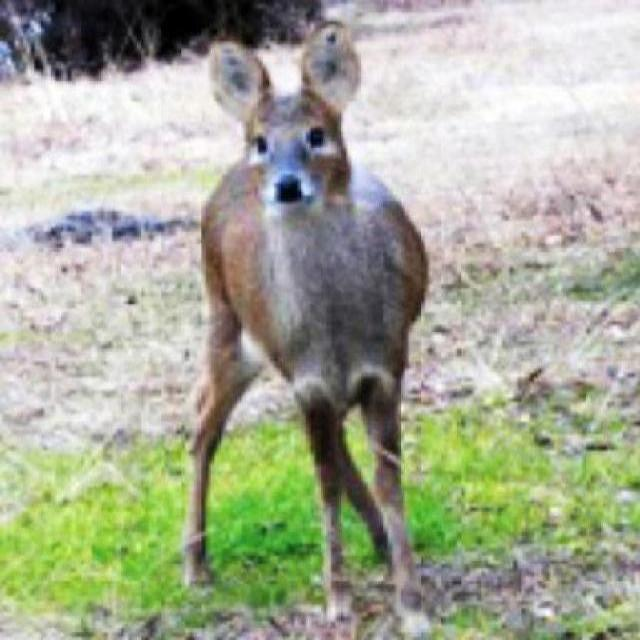deer: (156, 18, 452, 635)
